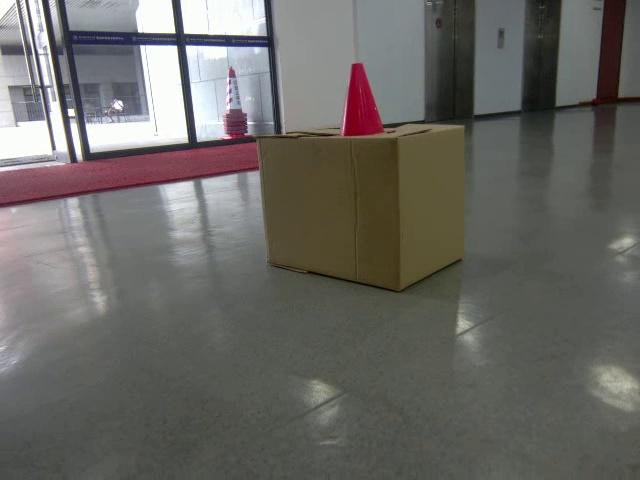red_barrel: (339, 63, 385, 137)
